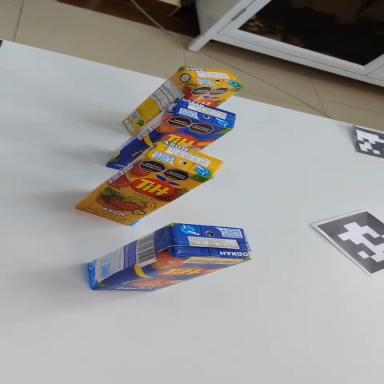HIT-MANGO: (79, 204, 254, 309), (97, 77, 240, 199)
HIT-MORA: (67, 119, 226, 245), (113, 51, 245, 138)
cara_F: (71, 135, 211, 246), (103, 92, 233, 199), (88, 234, 248, 311), (186, 85, 242, 109)
